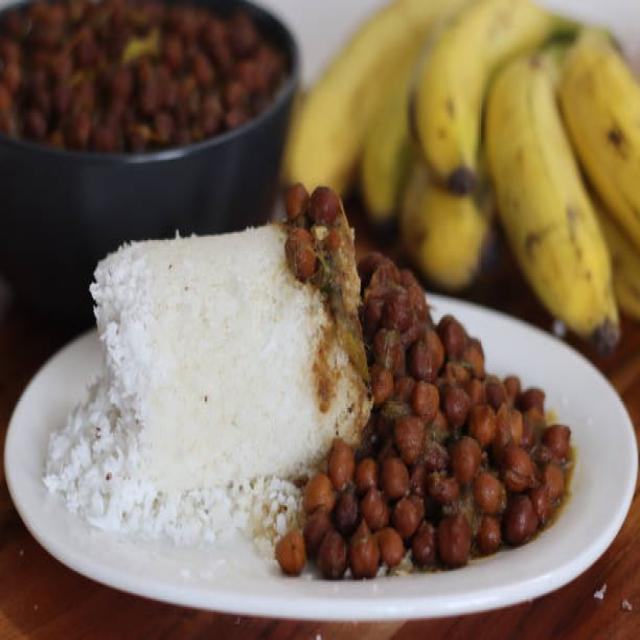BANANA: (282, 0, 639, 346)
PUTTU: (46, 222, 374, 506)
SUNDAL: (273, 184, 577, 581), (0, 0, 290, 154)
